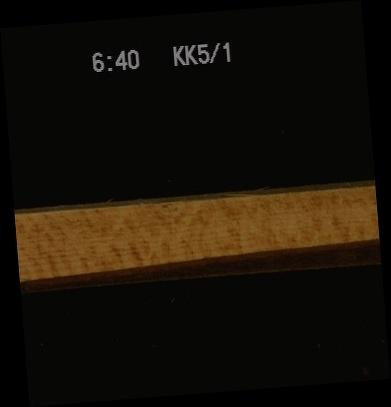wave: (19, 249, 380, 279)
